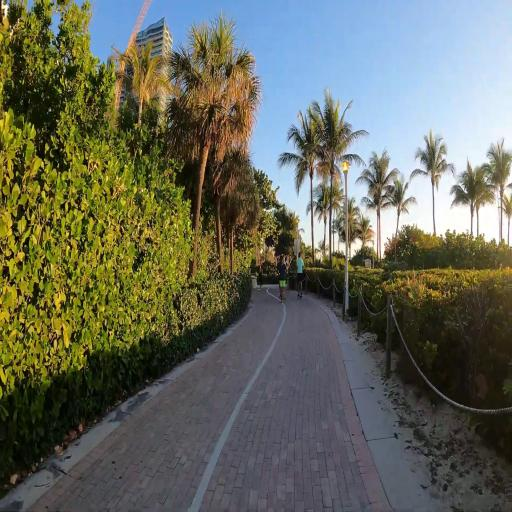Street_Light: (336, 151, 360, 321)
